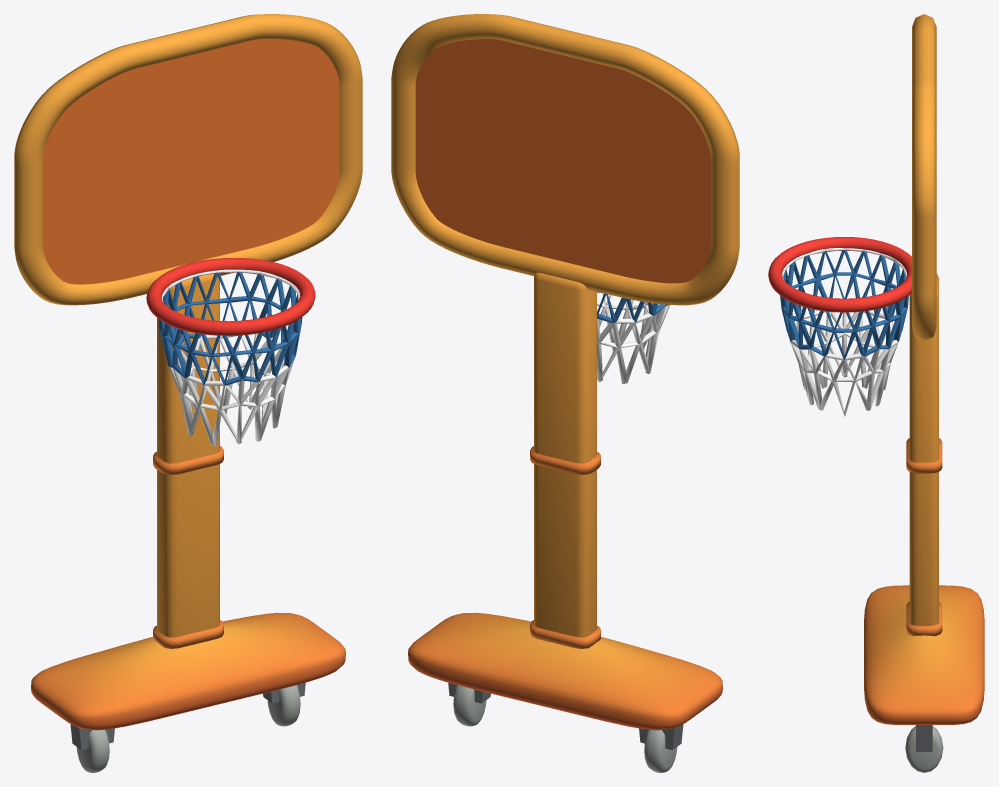
The model's file is hoop.fbx.
3 renders of one model, left to right at view 1: azimuth 30°, elevation 25°; view 2: azimuth 150°, elevation 25°; view 3: azimuth 270°, elevation 25°, orthographic. The views are drawn at different scales.
Visible parts, largest first — view 1: hoop, hoopawheel1, hoopawheel2; view 2: hoop, hoopawheel1, hoopawheel2; view 3: hoop, hoopawheel2.
Part boxes in pixels (<box>): hoop: <box>14,14,362,750</box>; hoopawheel1: <box>76,729,109,772</box>; hoopawheel2: <box>267,685,300,726</box>; hoop: <box>391,14,739,750</box>; hoopawheel1: <box>644,729,677,772</box>; hoopawheel2: <box>453,685,486,726</box>; hoop: <box>768,14,984,751</box>; hoopawheel2: <box>905,726,943,772</box>.
Size of the model in its own units: 180 by 355 by 104.
